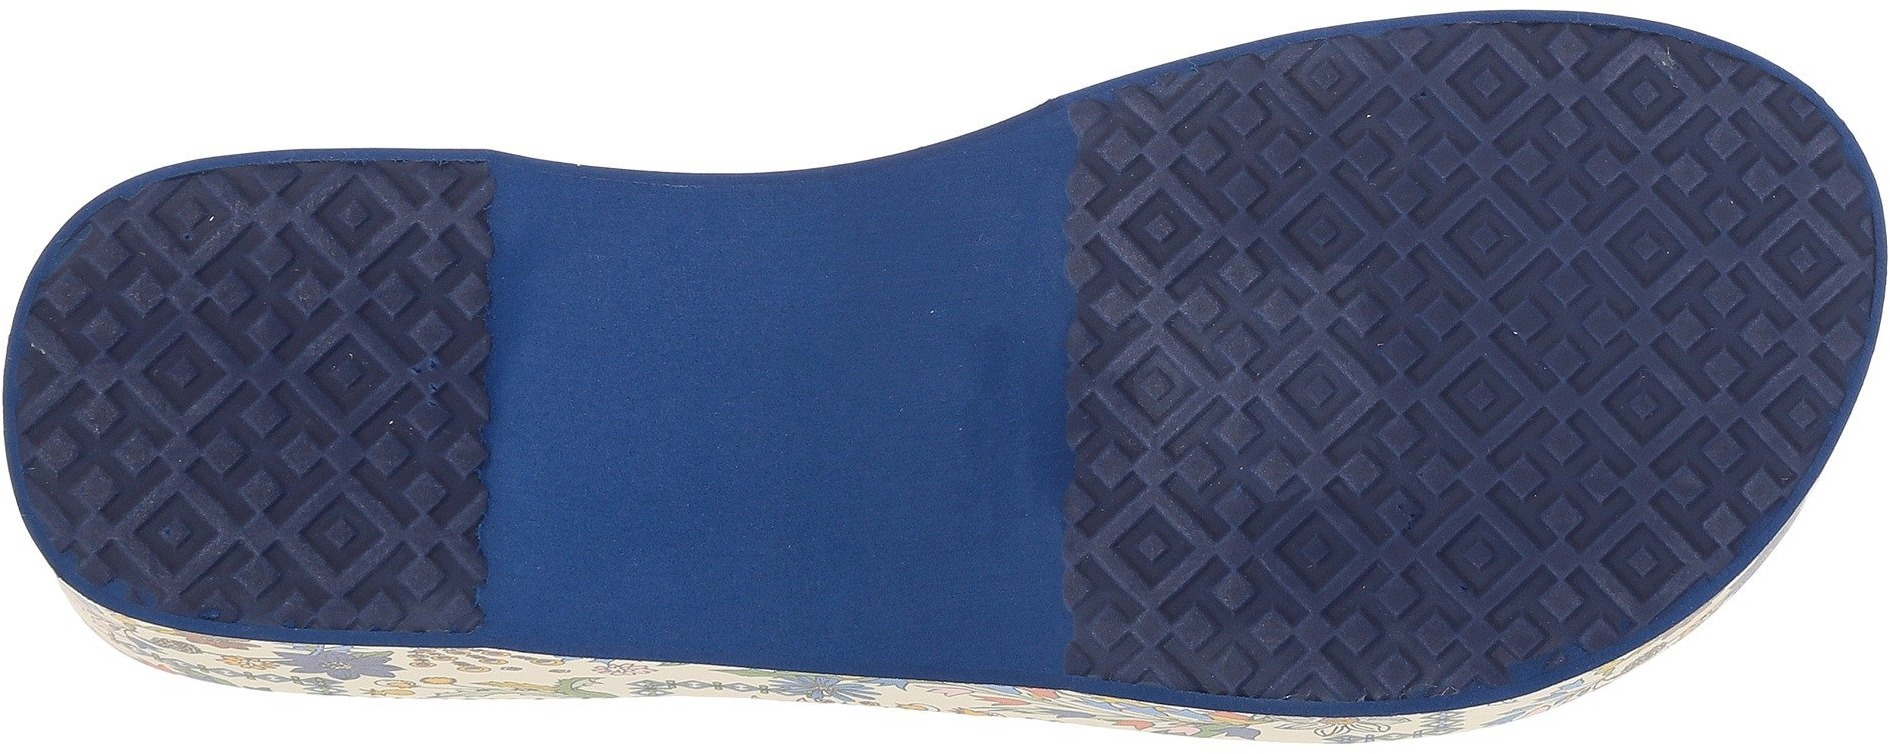other: (764, 188, 1044, 458), (523, 192, 753, 447), (727, 469, 939, 654), (510, 455, 708, 643)
quad: (1344, 308, 1679, 643), (1560, 77, 1804, 307), (1082, 306, 1327, 529), (1328, 42, 1544, 291), (272, 179, 491, 402), (1081, 92, 1311, 300), (1340, 296, 1563, 509), (1575, 314, 1784, 509), (258, 426, 466, 622), (74, 240, 268, 423), (58, 419, 250, 596), (1268, 534, 1442, 703), (1451, 517, 1592, 654)
